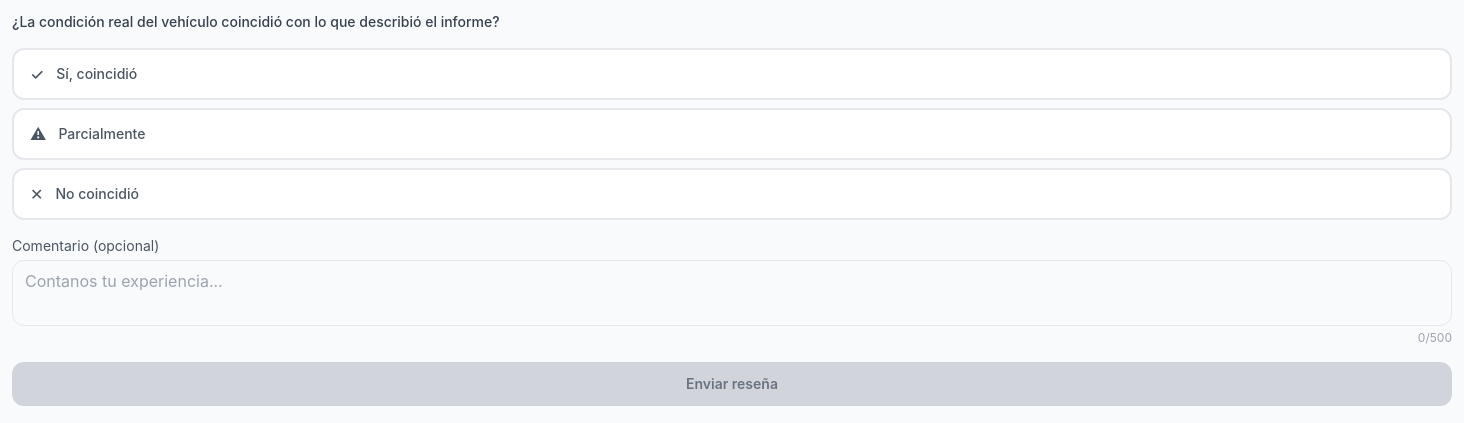
it: ReviewForm › shows confirmation after successful submission
Click the radio button with test id "rating-option-yes": {"x": 97, "y": 74} [12,48,1452,100]
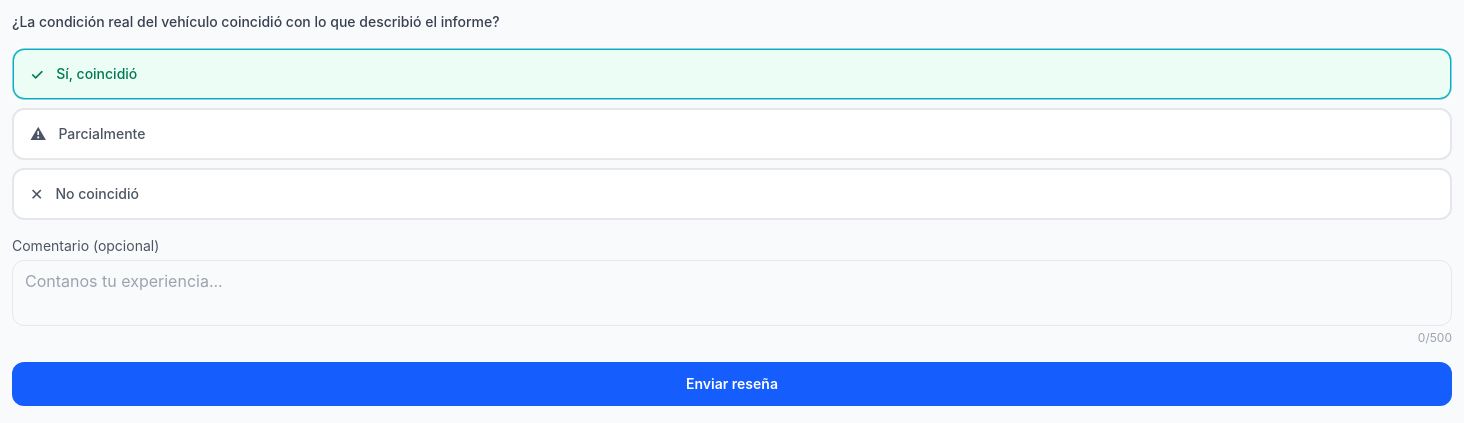
Click the button with test id "review-submit": {"x": 732, "y": 384} [12,362,1452,406]
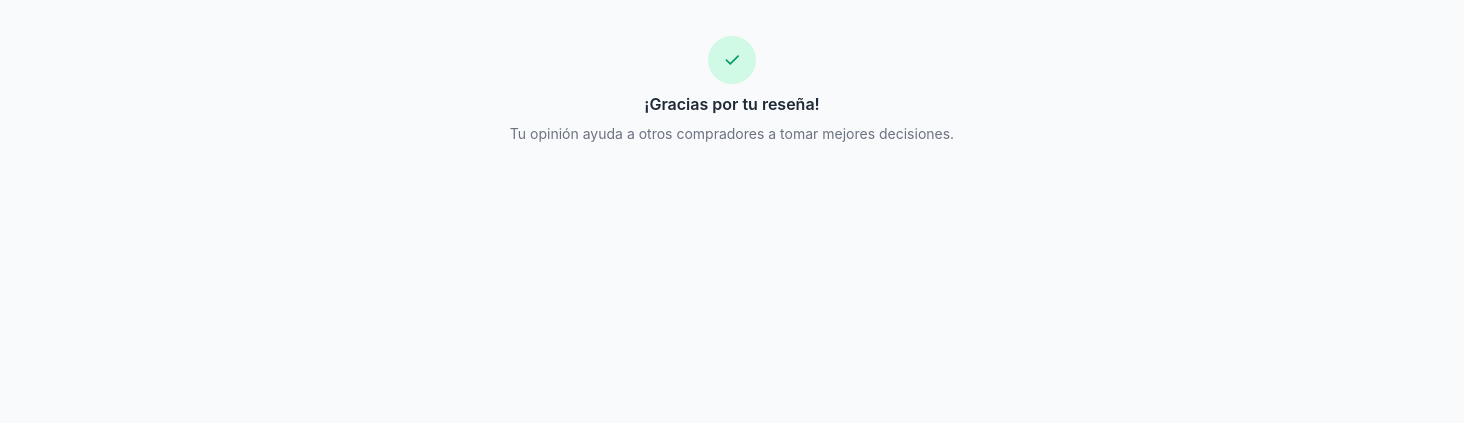
Check: the element with test id "review-confirmation" is shown, box [510,36,954,142]
Check: the heading "¡Gracias por tu reseña!" is shown, box [644,92,820,116]
